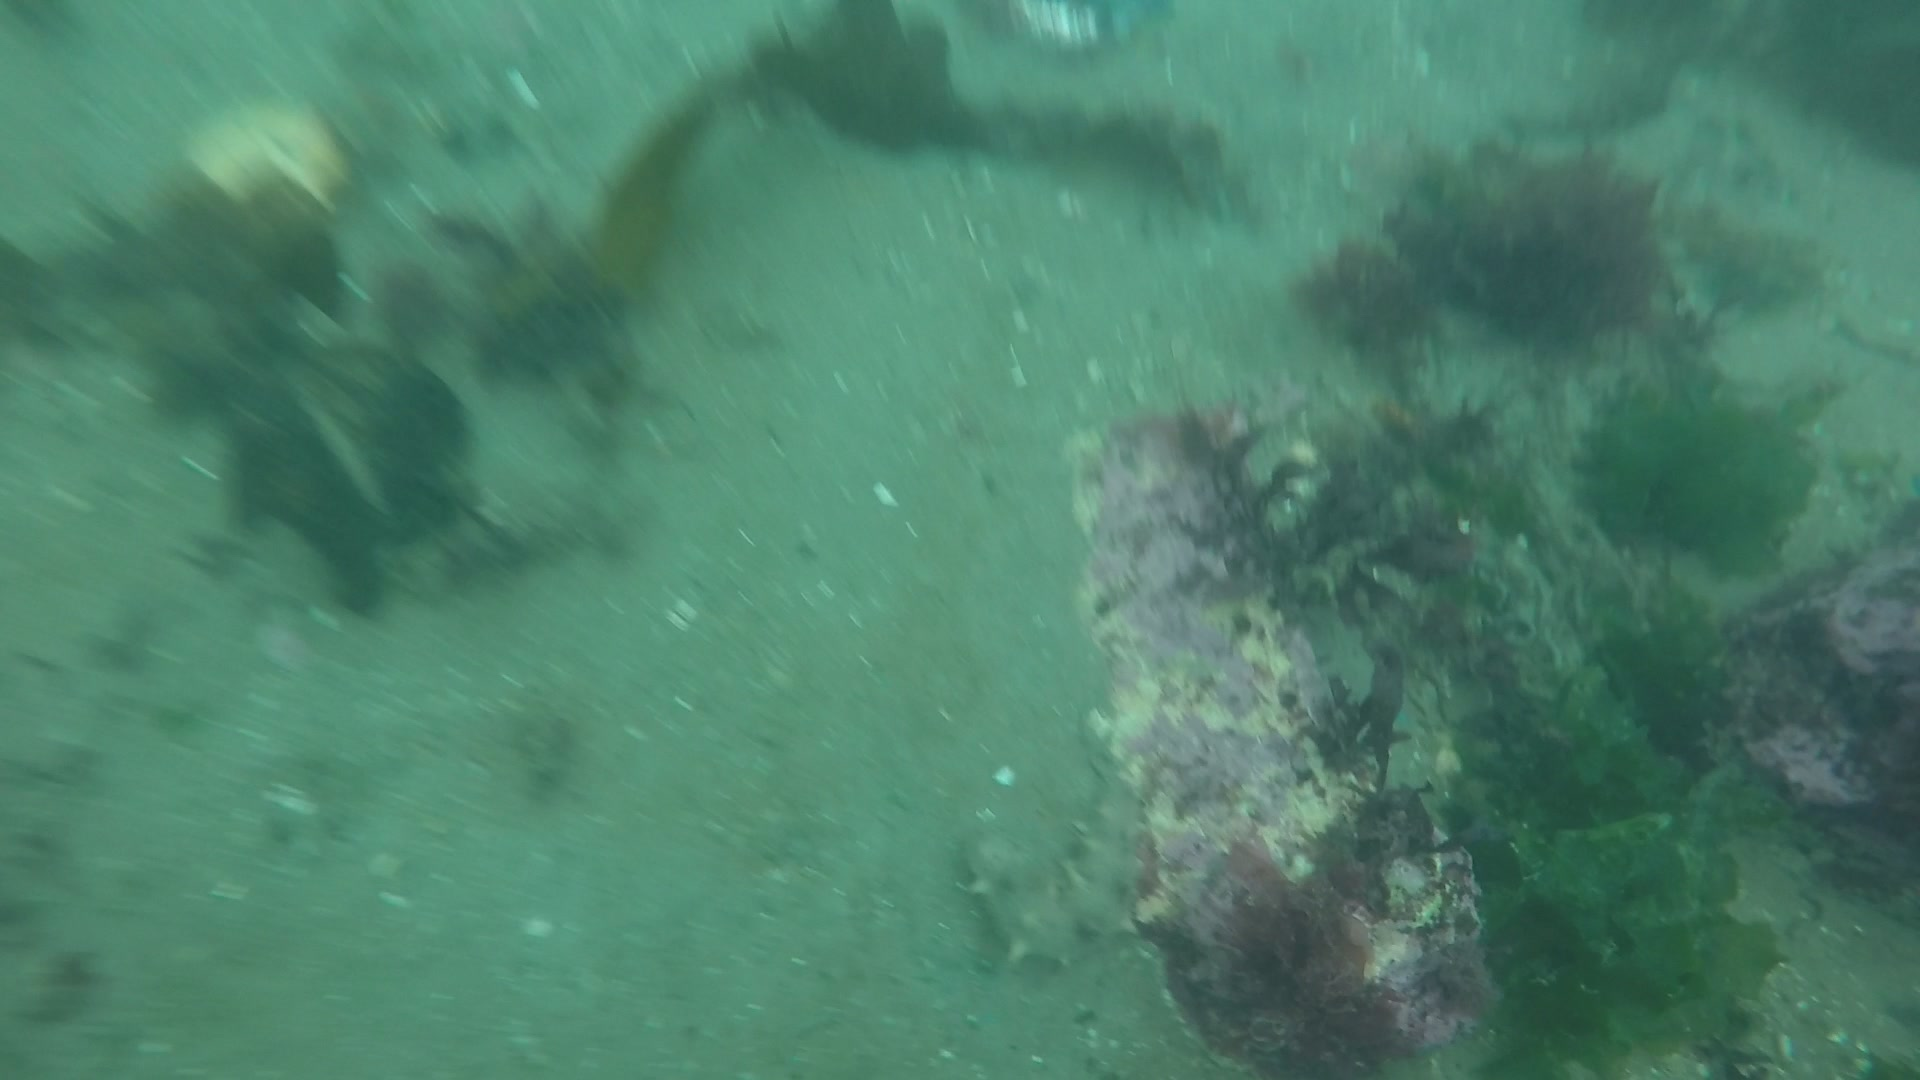holothurian: (965, 758, 1154, 967)
